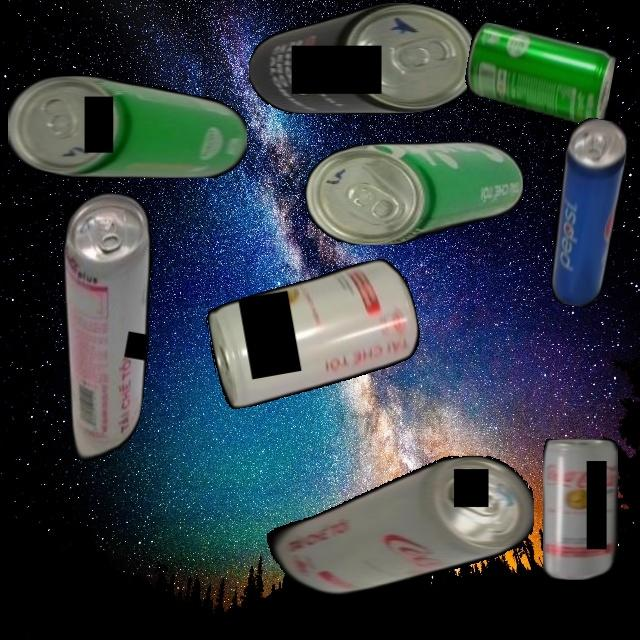debris: (27, 186, 177, 469), (254, 456, 534, 596), (201, 255, 427, 411), (248, 2, 476, 114), (8, 75, 247, 178), (305, 141, 523, 245), (540, 115, 632, 310), (461, 21, 618, 127), (543, 438, 618, 580)
